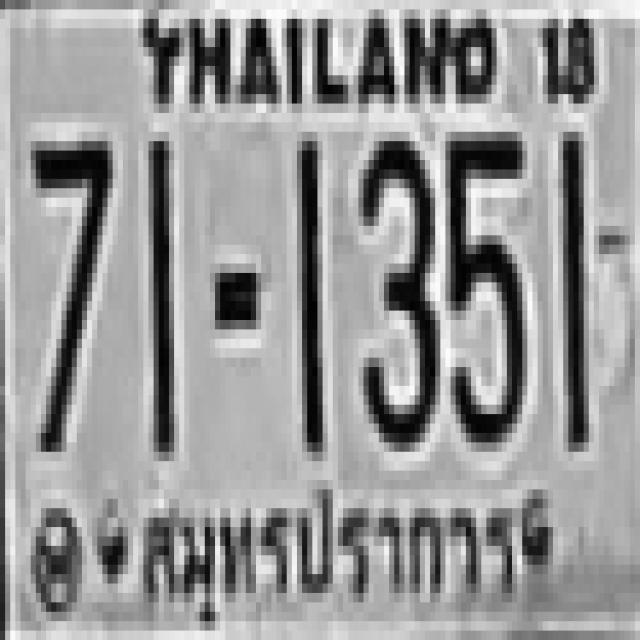1: (294, 132, 320, 452), (558, 132, 584, 442), (146, 132, 171, 452)
3: (358, 132, 436, 442)
5: (443, 122, 520, 442)
7: (31, 137, 108, 447)
SamutPrakan: (126, 472, 530, 638)
